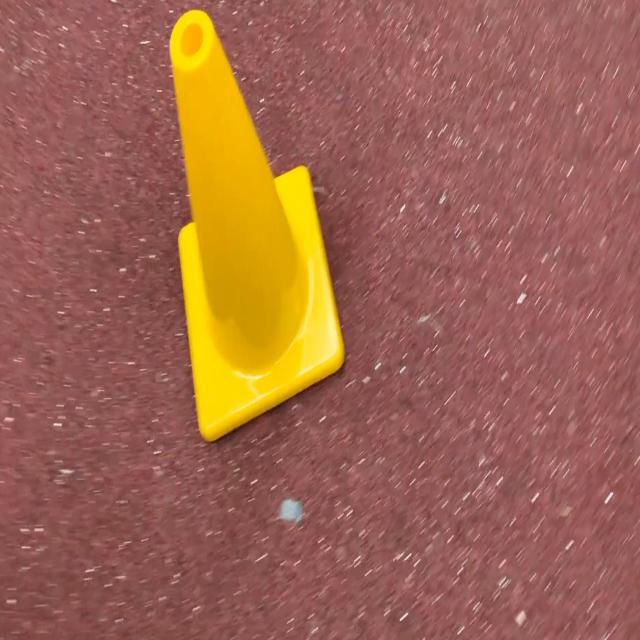frc_cone: (160, 12, 346, 443)
